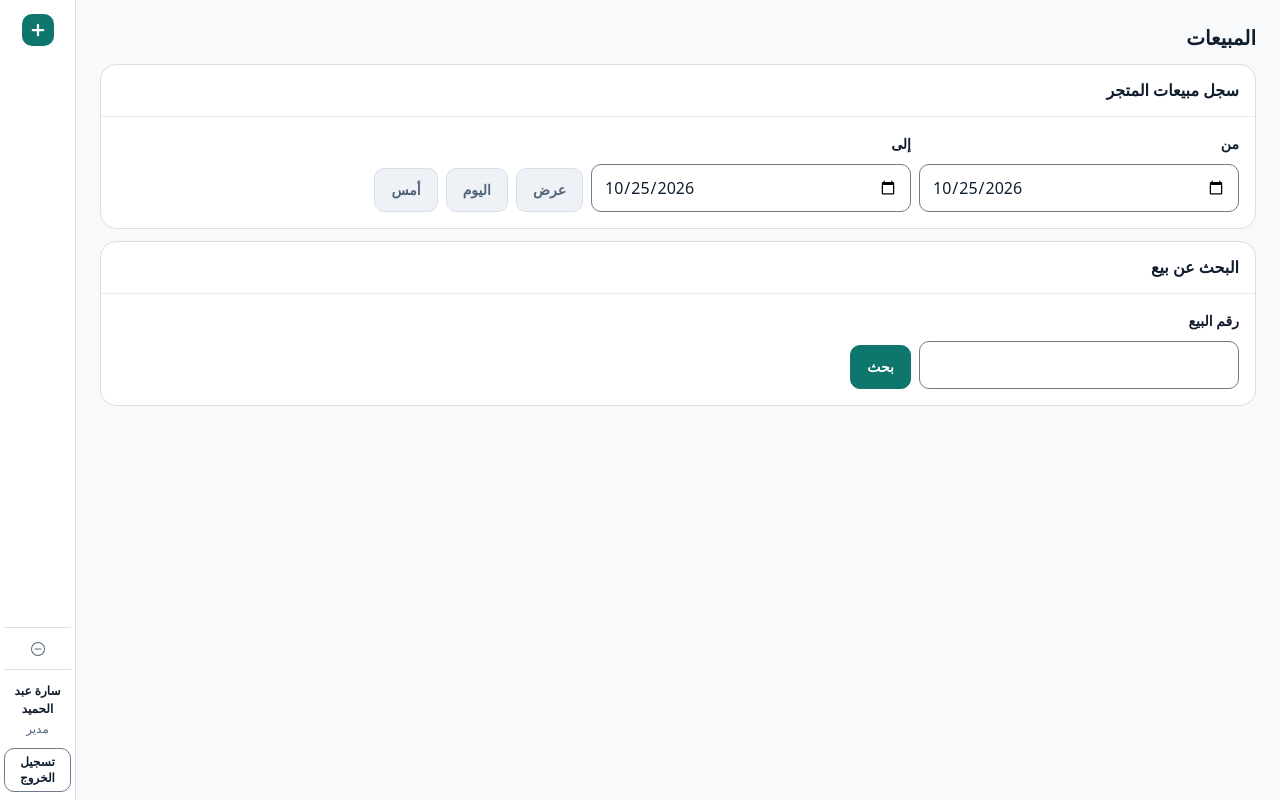
Scenario: OneFrameProof — the Sales fakes (RT-500) › preview=ok shows the engine-shaped slip in the dialog
Step 1. Type "TERM-01-2026-10-15-000042" into the field labelled "رقم البيع" → (1079, 364), box x1=919 y1=340 x2=1239 y2=388
Then press Enter
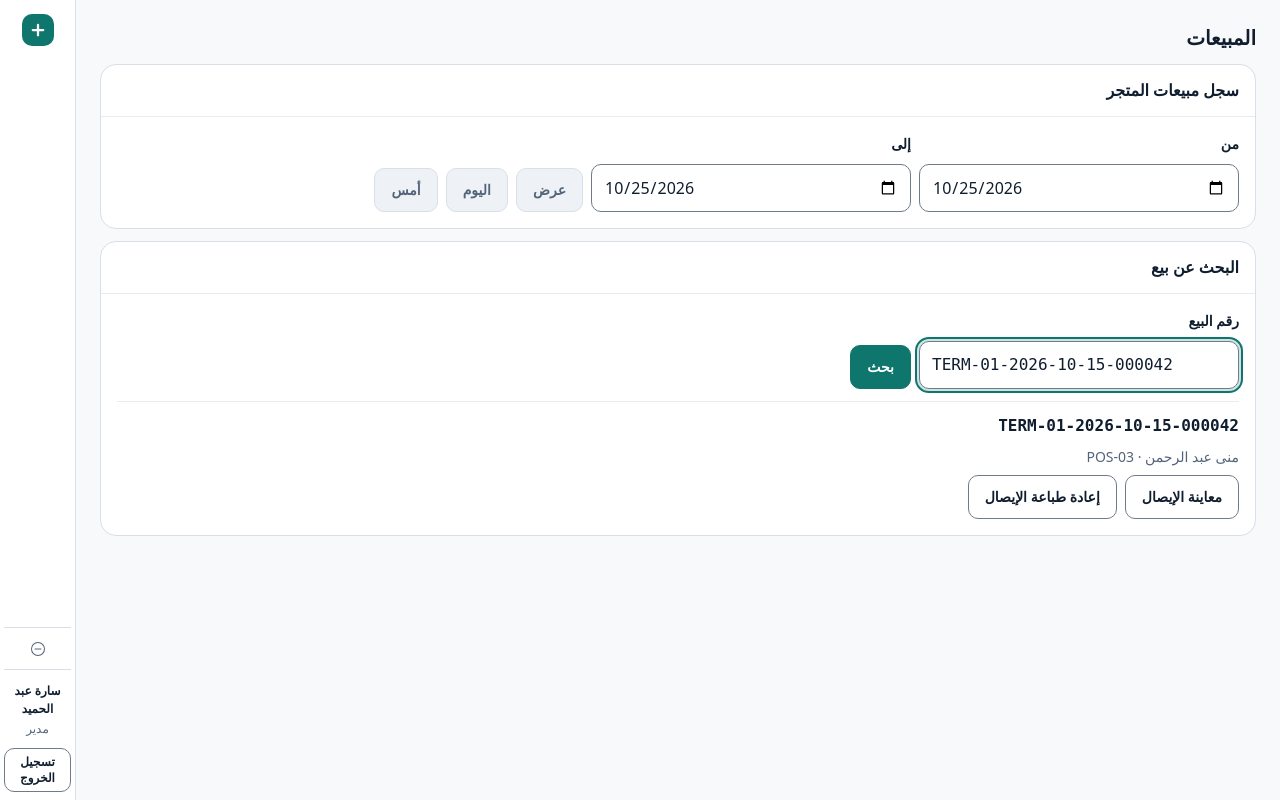
Step 2. Click the button "معاينة الإيصال" → (1182, 496), box x1=1125 y1=474 x2=1239 y2=518
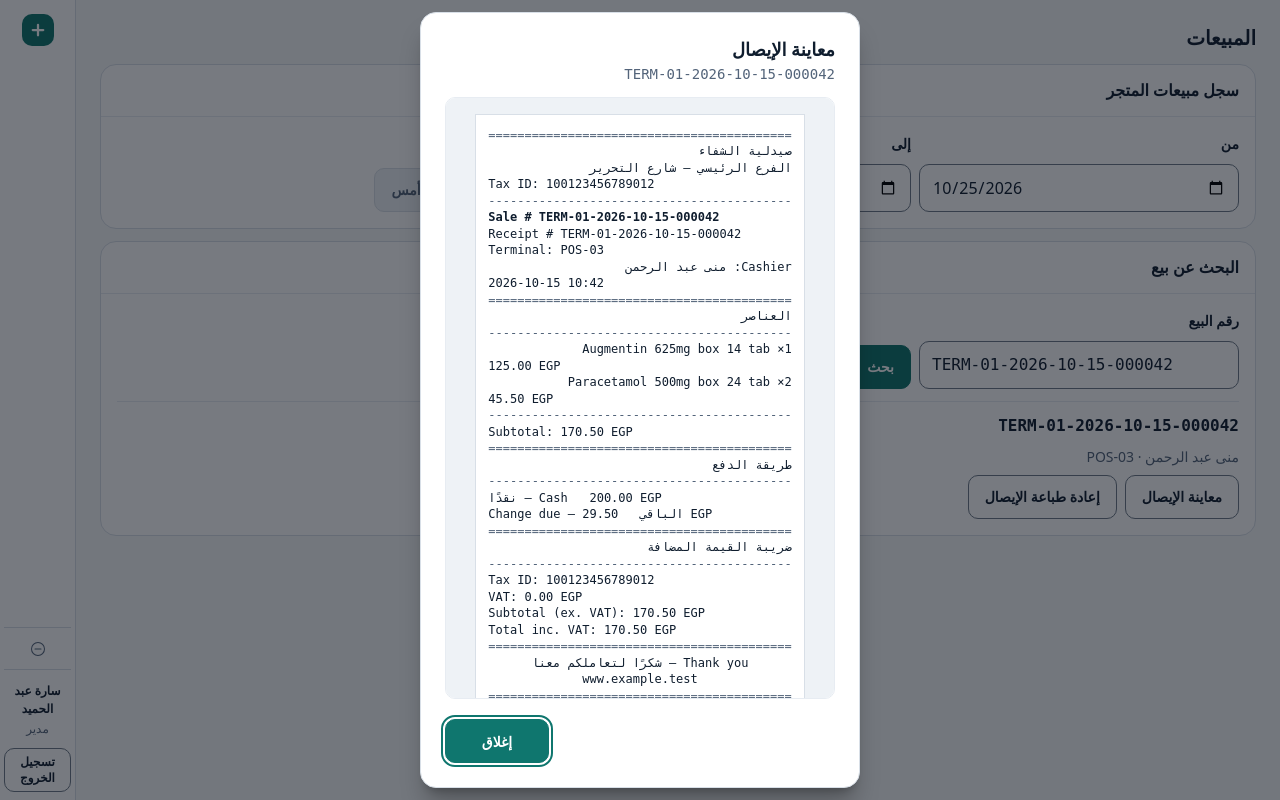
Now the element named "الإيصال" shows "Sale # TERM-01-2026-10-15-000042", box x1=488 y1=210 x2=720 y2=224
